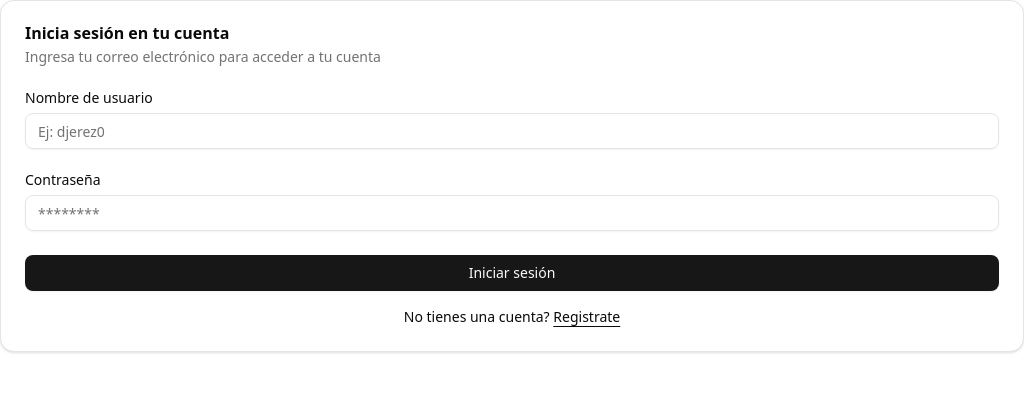
Test: LoginForm › muestra error si las credenciales son inválidas
In the field labelled "Nombre de usuario": (512, 131) [25, 113, 999, 149], type "wronguser"
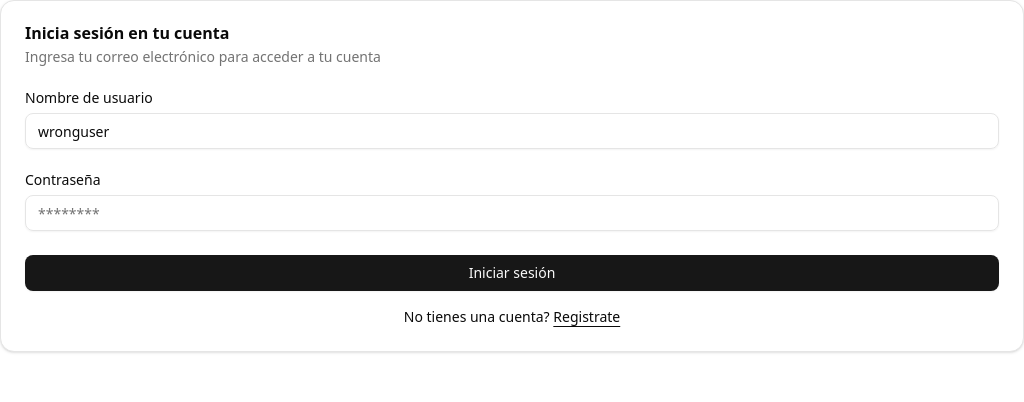
In the password field labelled "Contraseña": (512, 213) [25, 195, 999, 231], type "wrongpass"
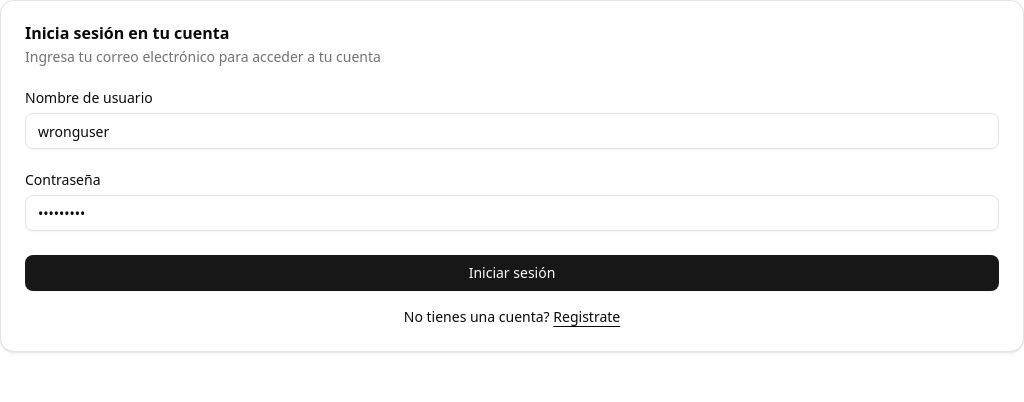
Click the button "Iniciar sesión": (512, 273) [25, 255, 999, 291]
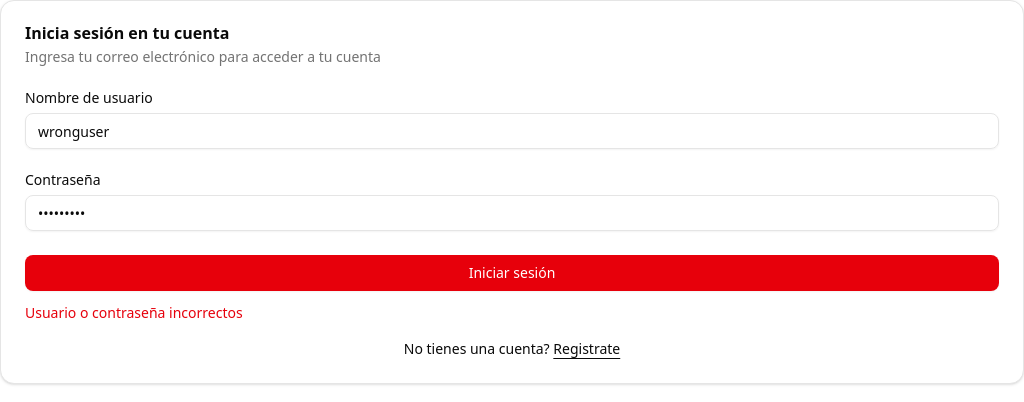
Check: the text "Usuario o contraseña incorrectos" is shown, box [25, 303, 243, 322]
